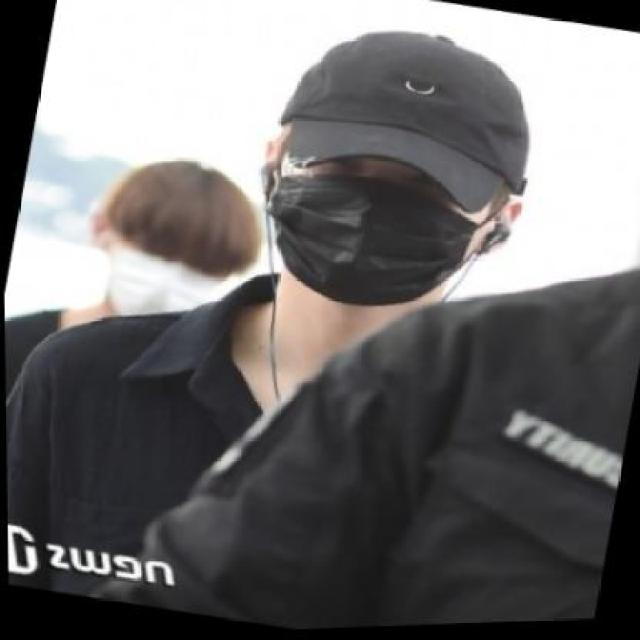hat: (261, 6, 554, 234)
